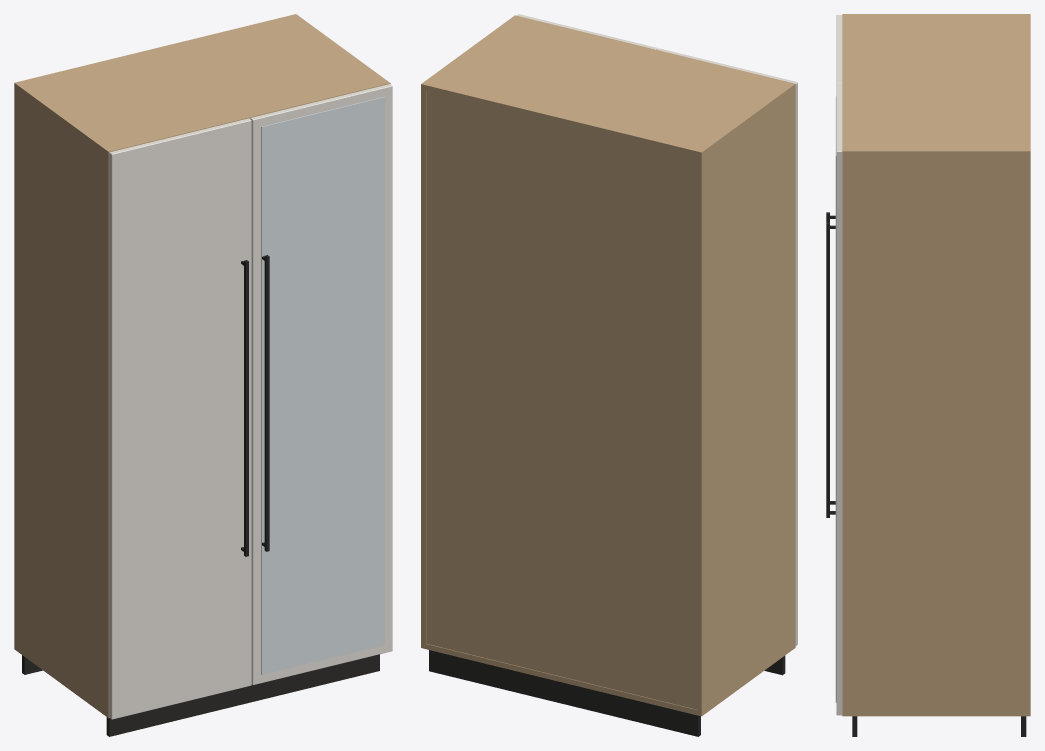
The model's file is 02_szafa_2d_100_lustro.glb.
3 renders of one model, left to right at view 1: azimuth 30°, elevation 25°; view 2: azimuth 150°, elevation 25°; view 3: azimuth 270°, elevation 25°, orthographic.
Visible parts, largest first — view 1: Korpus, Front_drzwi_1, Lustro_2, Front_drzwi_2, Cokol, Uchwyty; view 2: Korpus, Cokol, Front_drzwi_1; view 3: Korpus, Front_drzwi_2, Uchwyty, Lustro_2, Front_drzwi_1.
Boxes of the visible parts, x1,y1,x2,y2 form: Korpus: (14,14,390,718); Front_drzwi_1: (109,118,251,719); Lustro_2: (261,96,384,674); Front_drzwi_2: (250,84,392,685); Cokol: (22,654,379,736); Uchwyty: (241,255,269,556); Korpus: (421,15,795,716); Cokol: (429,650,785,736); Front_drzwi_1: (657,48,797,645); Korpus: (842,14,1030,716); Front_drzwi_2: (836,83,842,715); Uchwyty: (826,212,835,517); Lustro_2: (835,96,836,702); Front_drzwi_1: (836,15,842,83).
Bounding box in the file's own units: 1 × 2 × 0.63.
